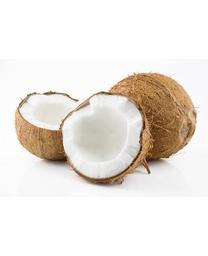coconut: (104, 71, 198, 163), (61, 92, 151, 185), (15, 91, 89, 162)
